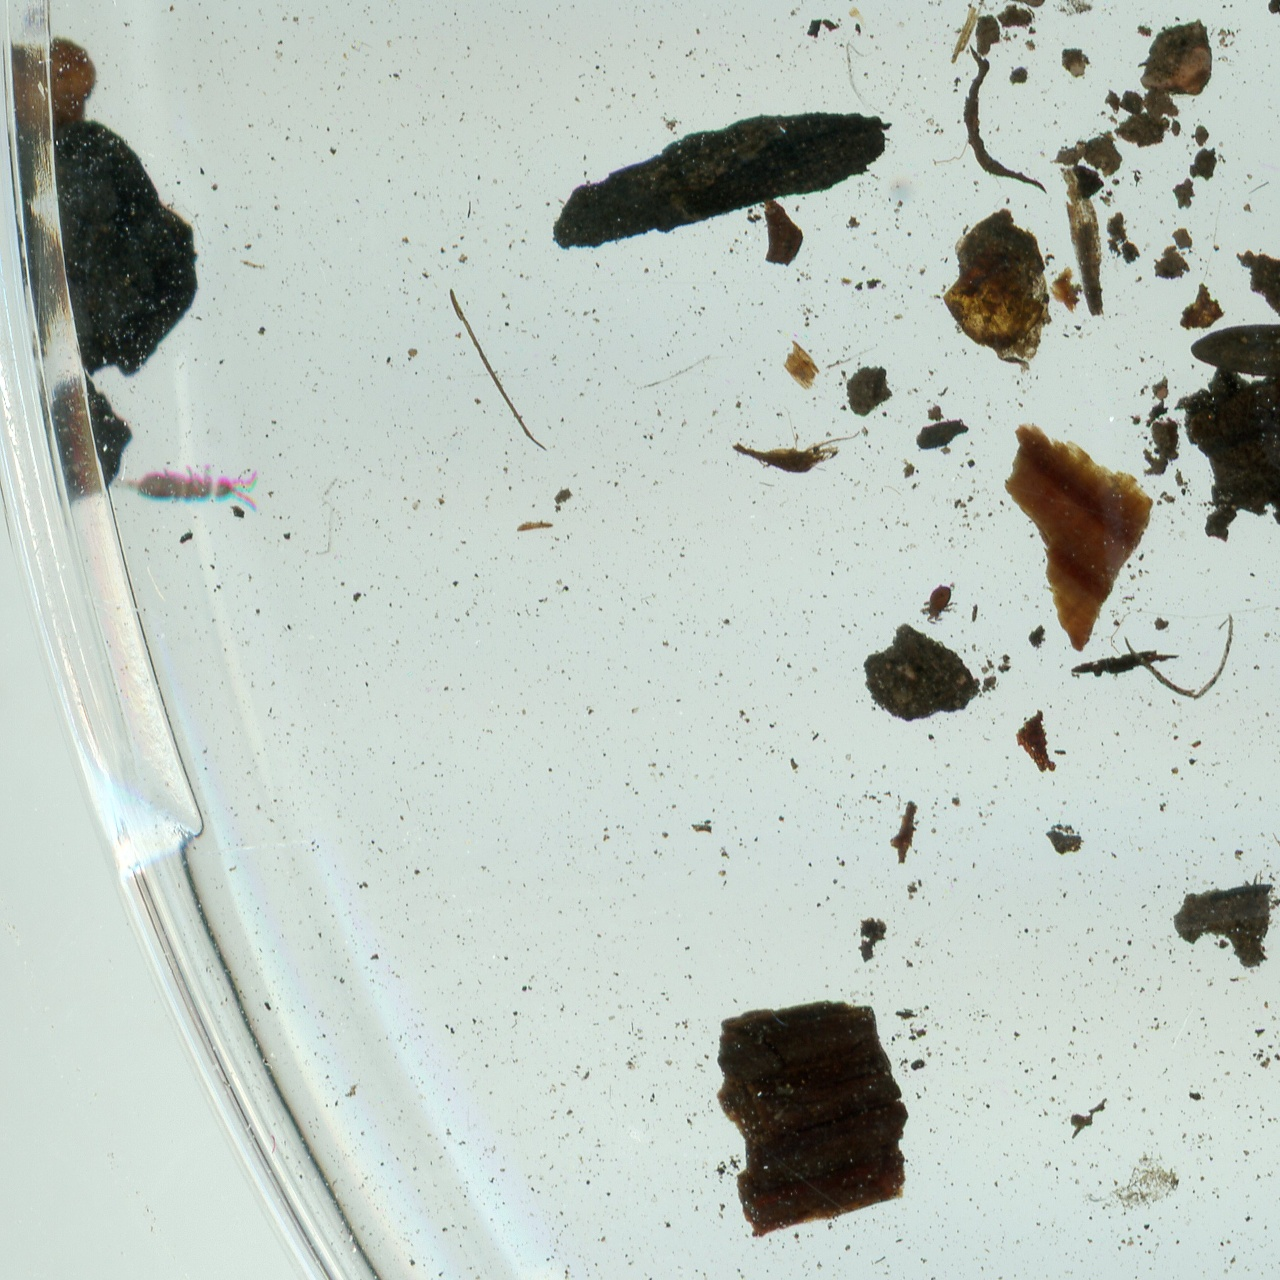arthropod: (100, 461, 258, 515), (919, 584, 956, 627)
